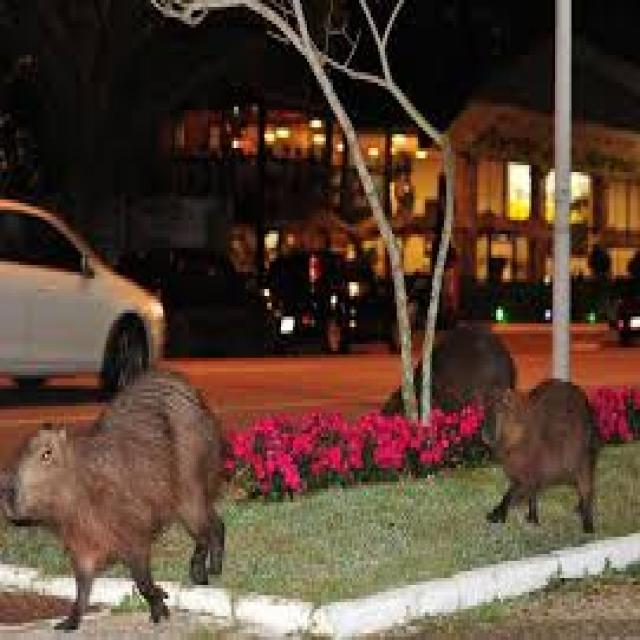capy: (7, 364, 233, 628), (481, 379, 601, 534)
